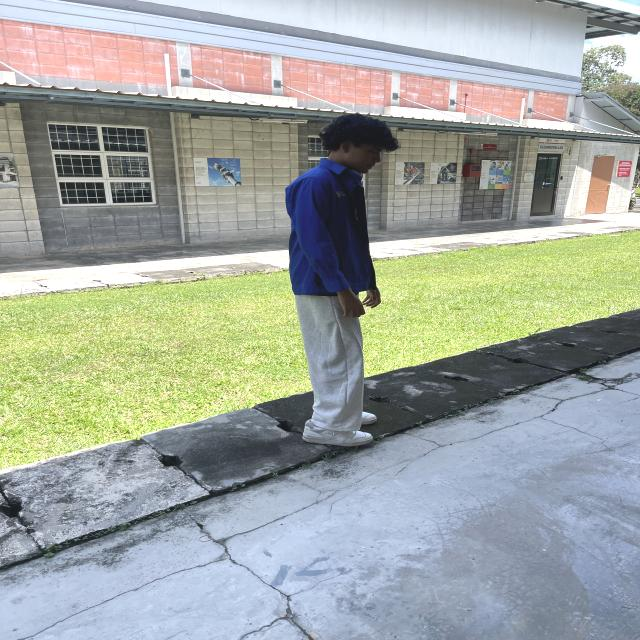person_with_labcoat: (286, 113, 398, 446)
